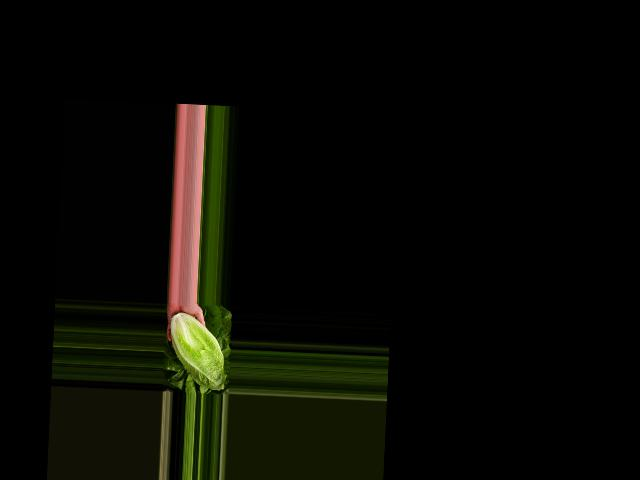lettuce: (165, 310, 228, 391)
